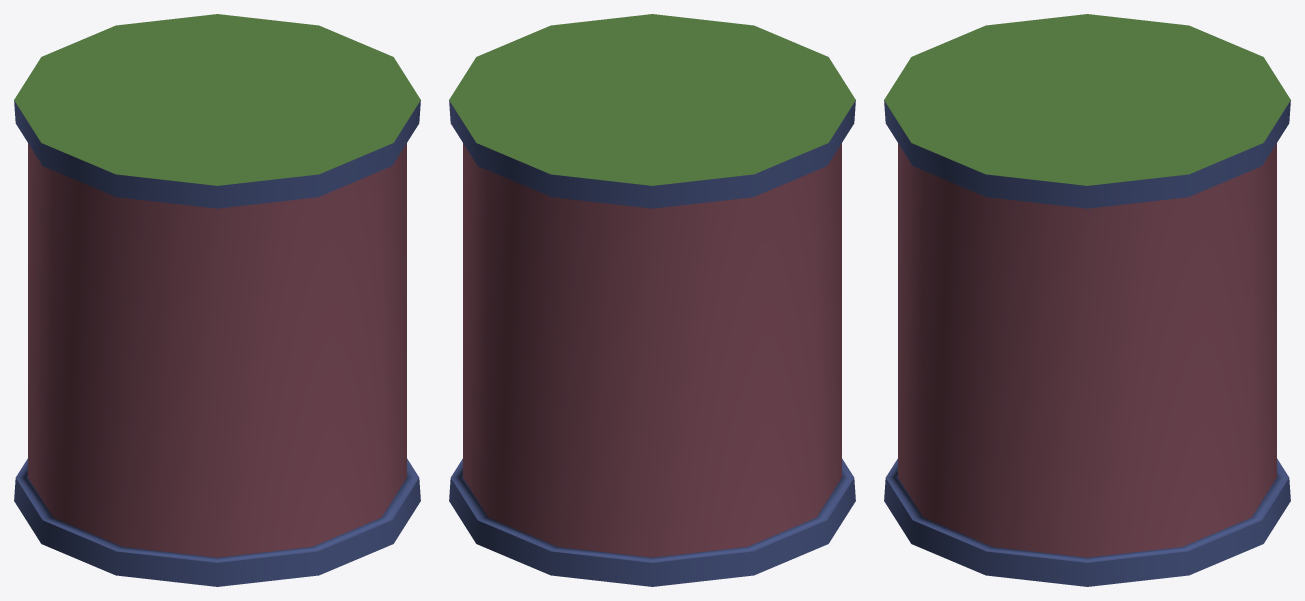
File: can.fbx
3 renders of one model, left to right at view 1: azimuth 30°, elevation 25°; view 2: azimuth 150°, elevation 25°; view 3: azimuth 270°, elevation 25°, orthographic.
Parts seen in each view (by area): view 1: can; view 2: can; view 3: can.
Part boxes in pixels (bbox=[...]): can: bbox=[14, 14, 420, 586]; can: bbox=[449, 14, 855, 586]; can: bbox=[884, 14, 1290, 586].
Bounding box in the file's own units: 0.1469 × 0.1598 × 0.1469.
